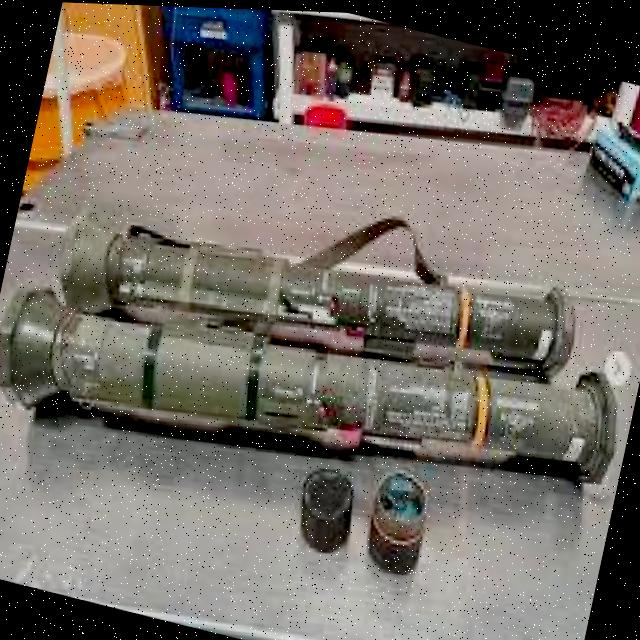rocket: (0, 128, 640, 552)
